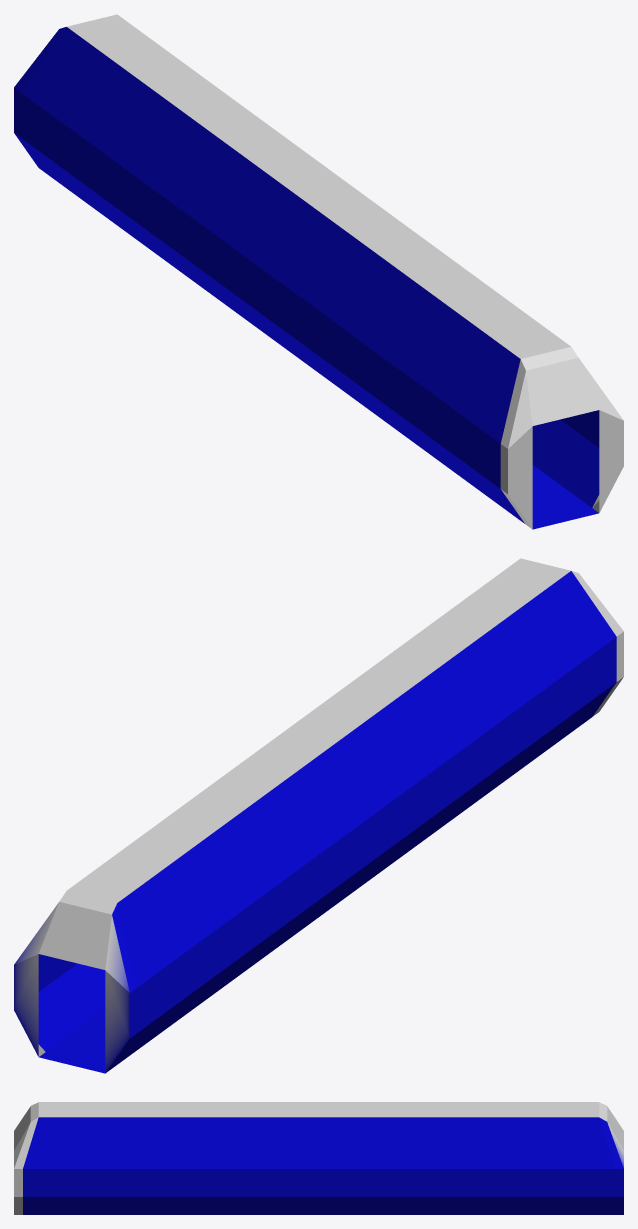
File: startingTunnel.fbx
3 renders of one model, top to bottom at view 1: azimuth 30°, elevation 25°; view 2: azimuth 150°, elevation 25°; view 3: azimuth 270°, elevation 25°, orthographic. The views are drawn at different scales.
Parts seen in each view (by area): view 1: Plane.001; view 2: Plane.001; view 3: Plane.001.
Part boxes in pixels (x1,y1,x2,y2): Plane.001: [14, 14, 623, 529]; Plane.001: [14, 558, 623, 1073]; Plane.001: [14, 1102, 623, 1214].
Size of the model in its own units: 359 by 455 by 2649.
